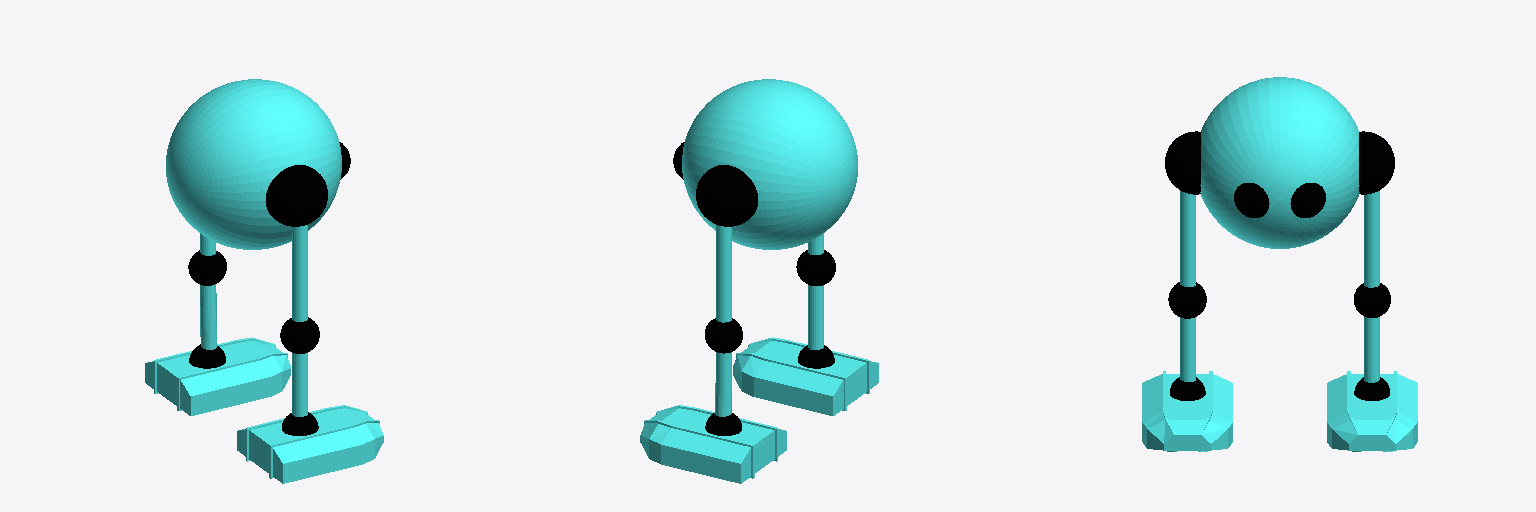
The model's file is Personaje1_still.obj.
3 views of the same model, side by side, from view 1: azimuth 30°, elevation 25°; view 2: azimuth 150°, elevation 25°; view 3: azimuth 270°, elevation 25° (orthographic).
Parts seen in each view (by area): view 1: SphereFBXASC046001, SphereFBXASC046001 Left_leg polySurface10 polySurface8 polySurfa, SphereFBXASC046001 Right_leg polySurface9 polySurface7 polySurfa, SphereFBXASC046001 Right_leg, SphereFBXASC046001 Right_leg polySurface9, SphereFBXASC046001 Right_leg polySurface9 polySurface7, SphereFBXASC046001 Left_leg polySurface10 polySurface8; view 2: SphereFBXASC046001, SphereFBXASC046001 Left_leg polySurface10 polySurface8 polySurfa, SphereFBXASC046001 Right_leg polySurface9 polySurface7 polySurfa, SphereFBXASC046001 Left_leg, SphereFBXASC046001 Left_leg polySurface10, SphereFBXASC046001 Right_leg polySurface9 polySurface7, SphereFBXASC046001 Left_leg polySurface10 polySurface8; view 3: SphereFBXASC046001, SphereFBXASC046001 Left_leg polySurface10 polySurface8 polySurfa, SphereFBXASC046001 Right_leg polySurface9 polySurface7 polySurfa, SphereFBXASC046001 Right_leg, SphereFBXASC046001 Left_leg, SphereFBXASC046001 Left_leg polySurface10, SphereFBXASC046001 Right_leg polySurface9, SphereFBXASC046001 Right_leg polySurface9 polySurface7, SphereFBXASC046001 Left_leg polySurface10 polySurface8, SphereFBXASC046001 Right_eye, SphereFBXASC046001 Left_eye.
Boxes of the visible parts, <box> form: SphereFBXASC046001: <box>166,79,341,249</box>; SphereFBXASC046001 Left_leg polySurface10 polySurface8 polySurfa: <box>145,284,290,415</box>; SphereFBXASC046001 Right_leg polySurface9 polySurface7 polySurfa: <box>237,353,383,483</box>; SphereFBXASC046001 Right_leg: <box>266,165,327,226</box>; SphereFBXASC046001 Right_leg polySurface9: <box>292,225,307,321</box>; SphereFBXASC046001 Right_leg polySurface9 polySurface7: <box>280,317,319,353</box>; SphereFBXASC046001 Left_leg polySurface10 polySurface8: <box>188,250,226,285</box>; SphereFBXASC046001: <box>682,79,857,249</box>; SphereFBXASC046001 Left_leg polySurface10 polySurface8 polySurfa: <box>640,352,786,483</box>; SphereFBXASC046001 Right_leg polySurface9 polySurface7 polySurfa: <box>733,285,878,415</box>; SphereFBXASC046001 Left_leg: <box>696,165,757,226</box>; SphereFBXASC046001 Left_leg polySurface10: <box>716,225,731,322</box>; SphereFBXASC046001 Right_leg polySurface9 polySurface7: <box>796,250,835,285</box>; SphereFBXASC046001 Left_leg polySurface10 polySurface8: <box>705,318,742,353</box>; SphereFBXASC046001: <box>1200,77,1359,248</box>; SphereFBXASC046001 Left_leg polySurface10 polySurface8 polySurfa: <box>1327,317,1417,451</box>; SphereFBXASC046001 Right_leg polySurface9 polySurface7 polySurfa: <box>1142,317,1232,451</box>; SphereFBXASC046001 Right_leg: <box>1165,131,1200,194</box>; SphereFBXASC046001 Left_leg: <box>1359,131,1394,194</box>; SphereFBXASC046001 Left_leg polySurface10: <box>1364,191,1379,287</box>; SphereFBXASC046001 Right_leg polySurface9: <box>1180,191,1195,286</box>; SphereFBXASC046001 Right_leg polySurface9 polySurface7: <box>1168,282,1206,318</box>; SphereFBXASC046001 Left_leg polySurface10 polySurface8: <box>1354,283,1390,317</box>; SphereFBXASC046001 Right_eye: <box>1234,183,1269,217</box>; SphereFBXASC046001 Left_eye: <box>1290,183,1325,217</box>.
Size of the model in its own units: 11.56 by 23.5 by 17.36.